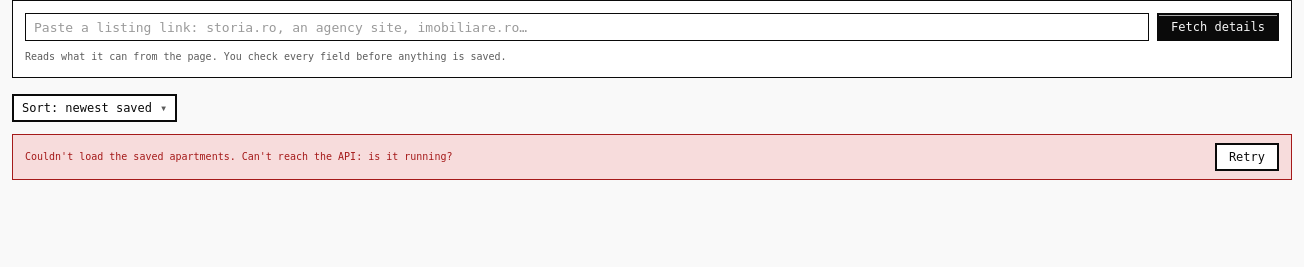
it: <SavedPage> when the API is down › shows the alert, not the empty shortlist, and Retry loads it
The width and height of the screenshot is (1304, 267).
Expected: the message shows "Couldn't load the saved apartments. Can't reach the API: is it running?", x1=25 y1=151 x2=452 y2=162
Expected: the text "Nothing saved yet" is not shown
Click the button "Retry" at (1247, 157), box x1=1215 y1=143 x2=1279 y2=171
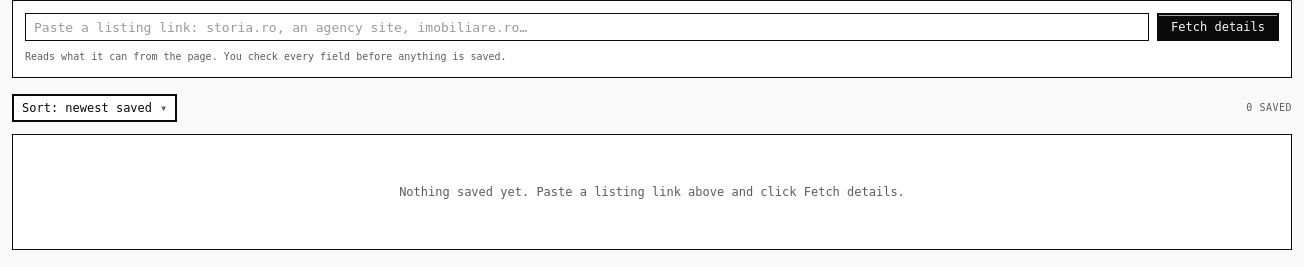
Result: the text "Nothing saved yet" is shown at x1=399 y1=185 x2=905 y2=199
Result: the message "Couldn't load the saved apartments. Can't reach the API: is it running? Retry" is gone
